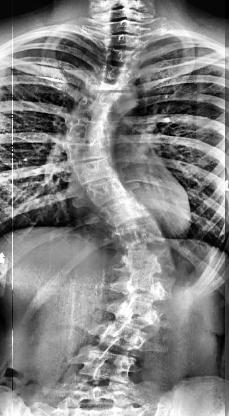Vertebrae: (65, 352, 138, 384), (82, 326, 158, 354), (107, 296, 175, 326), (112, 216, 176, 246), (61, 138, 125, 168), (95, 198, 163, 226), (64, 116, 128, 144), (121, 246, 183, 274), (77, 178, 138, 206), (122, 273, 178, 299), (92, 62, 144, 90), (83, 84, 135, 108), (72, 96, 132, 116), (68, 160, 118, 182), (99, 46, 138, 66), (106, 33, 140, 49)
